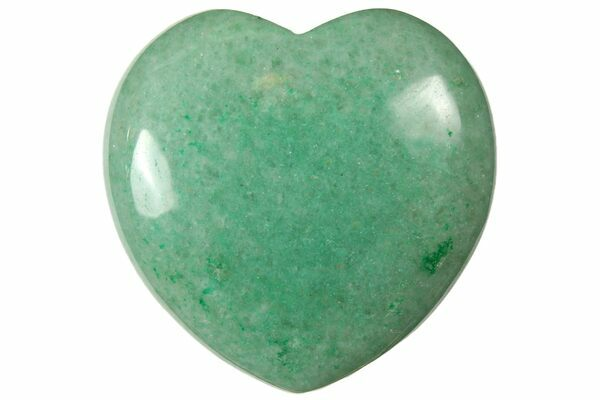Aventurine: (100, 7, 499, 393)
